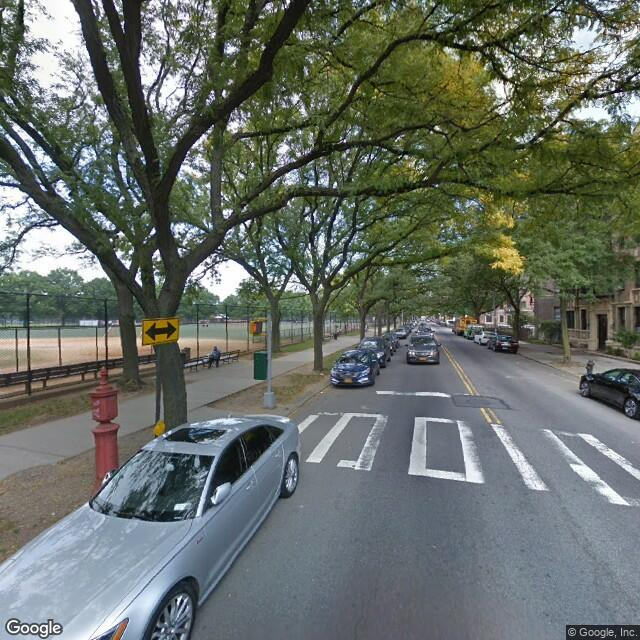litter: (320, 389, 325, 395), (49, 510, 55, 513)
